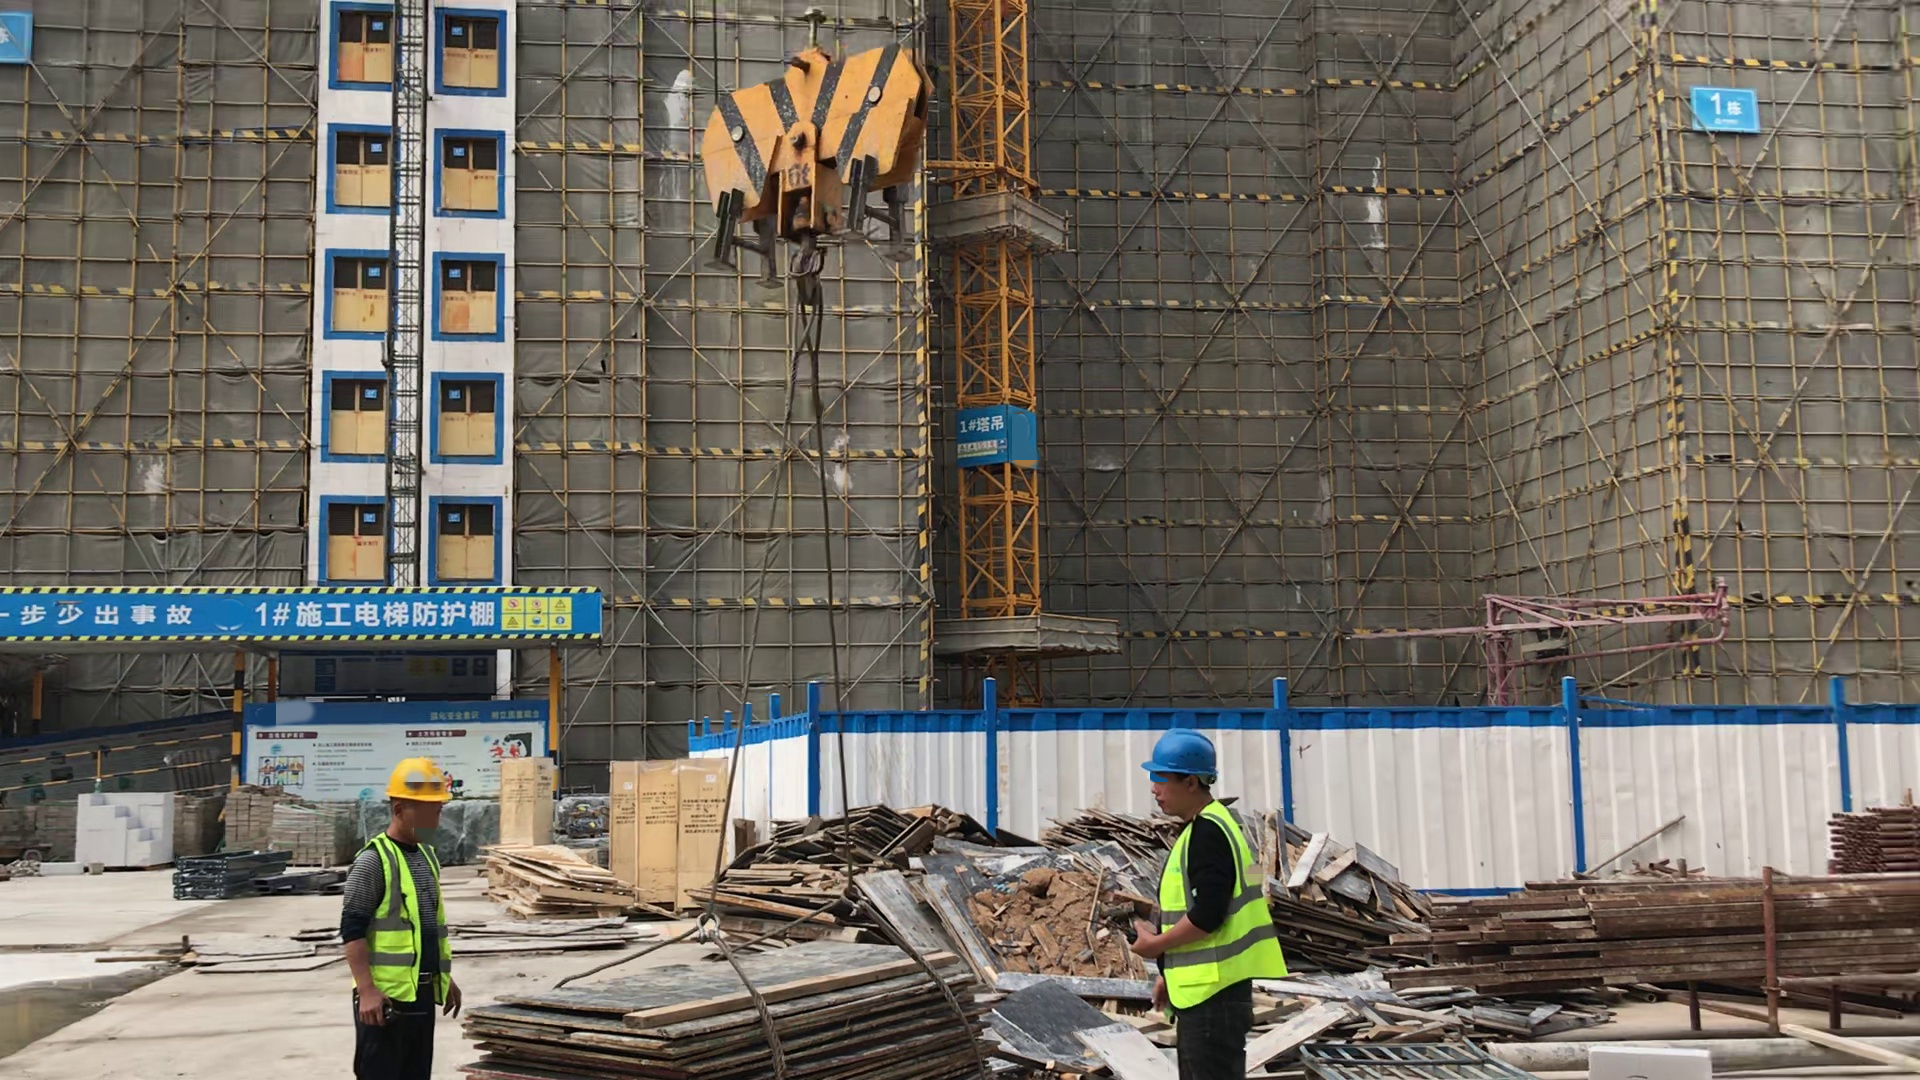board: (457, 934, 985, 1080)
brick: (75, 792, 174, 865)
hook: (694, 42, 932, 306)
person: (1115, 730, 1283, 1080), (347, 758, 468, 1080)
slogan: (6, 598, 199, 632), (498, 593, 577, 632), (957, 435, 1005, 460)
vest: (1160, 803, 1282, 1009), (364, 828, 453, 1008)
